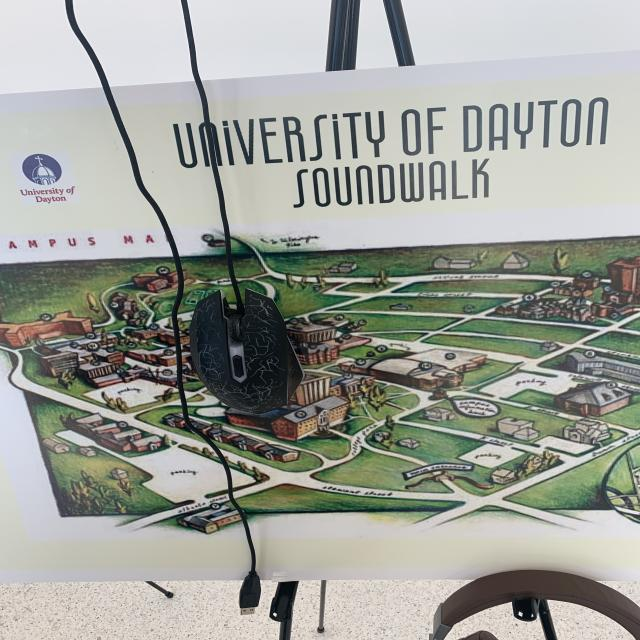Mouse: (188, 285, 316, 429)
